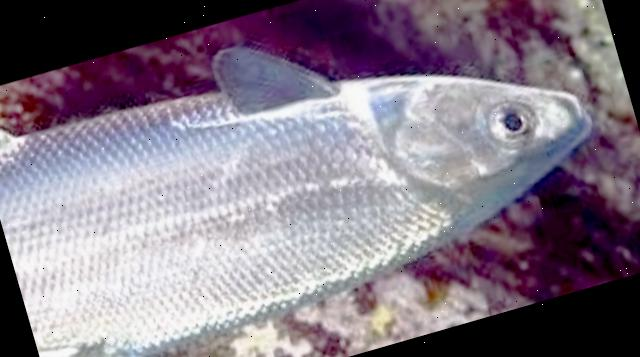Healthy Fish: (0, 36, 593, 357)
